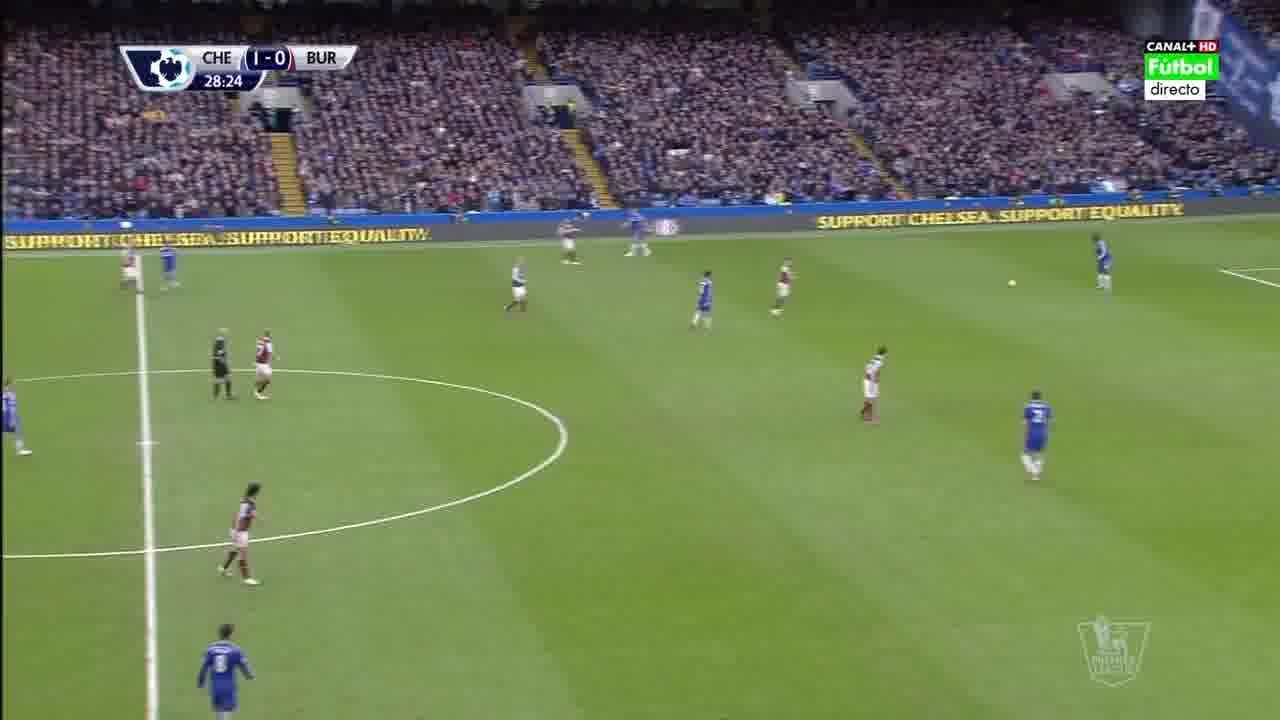football: (1008, 280, 1016, 288)
